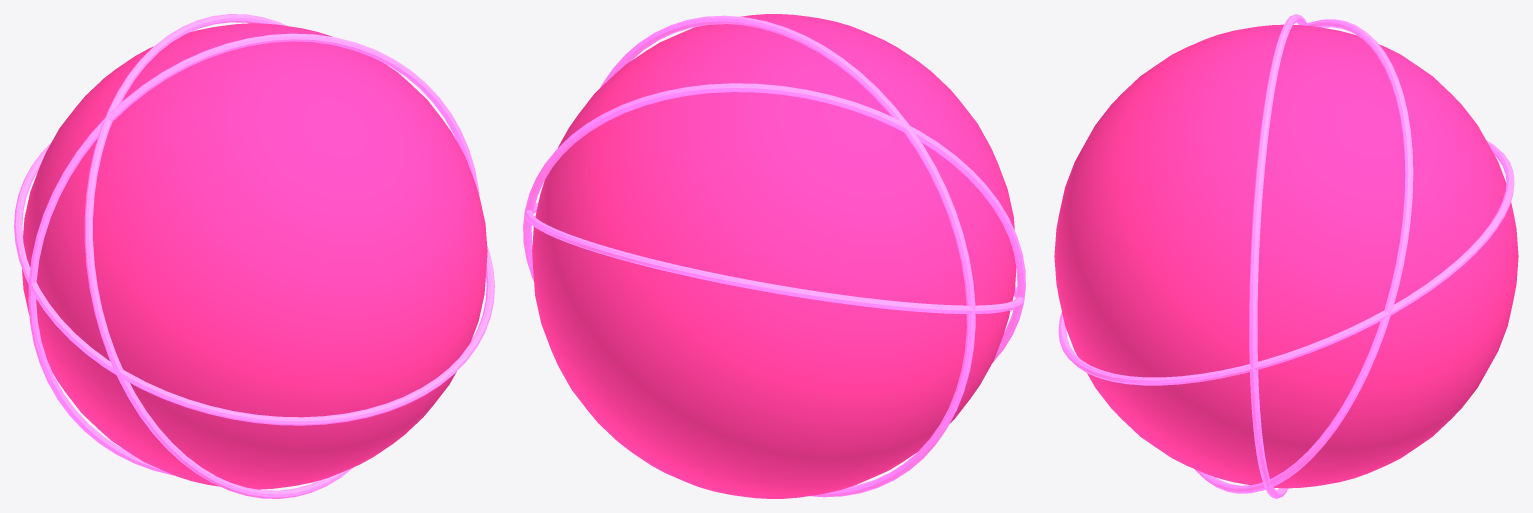
The model's file is pink-bunny-orb.glb.
3 renders of one model, left to right at view 1: azimuth 30°, elevation 25°; view 2: azimuth 150°, elevation 25°; view 3: azimuth 270°, elevation 25°, orthographic. The views are drawn at different scales.
Parts seen in each view (by area): view 1: Gliding orb, Orb energy ring.002, Orb energy ring.001, Orb energy ring; view 2: Gliding orb, Orb energy ring.002, Orb energy ring.001, Orb energy ring; view 3: Gliding orb, Orb energy ring.001, Orb energy ring, Orb energy ring.002.
Part boxes in pixels (bbox=[...]): Gliding orb: bbox=[22, 23, 487, 489]; Orb energy ring.002: bbox=[28, 33, 479, 475]; Orb energy ring.001: bbox=[84, 14, 353, 498]; Orb energy ring: bbox=[14, 142, 494, 425]; Gliding orb: bbox=[532, 14, 1016, 498]; Orb energy ring.002: bbox=[600, 15, 975, 497]; Orb energy ring.001: bbox=[523, 83, 1025, 362]; Orb energy ring: bbox=[524, 202, 1024, 313]; Gliding orb: bbox=[1054, 24, 1518, 488]; Orb energy ring.001: bbox=[1194, 19, 1413, 493]; Orb energy ring: bbox=[1058, 140, 1514, 385]; Orb energy ring.002: bbox=[1249, 14, 1307, 498].
Size of the model in its own units: 1.51 by 1.51 by 1.44.
